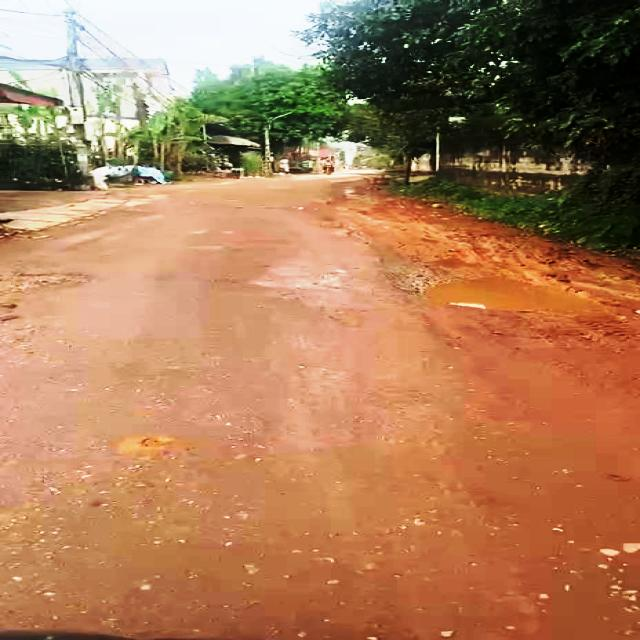pothole: (398, 270, 614, 316), (0, 270, 99, 295)
